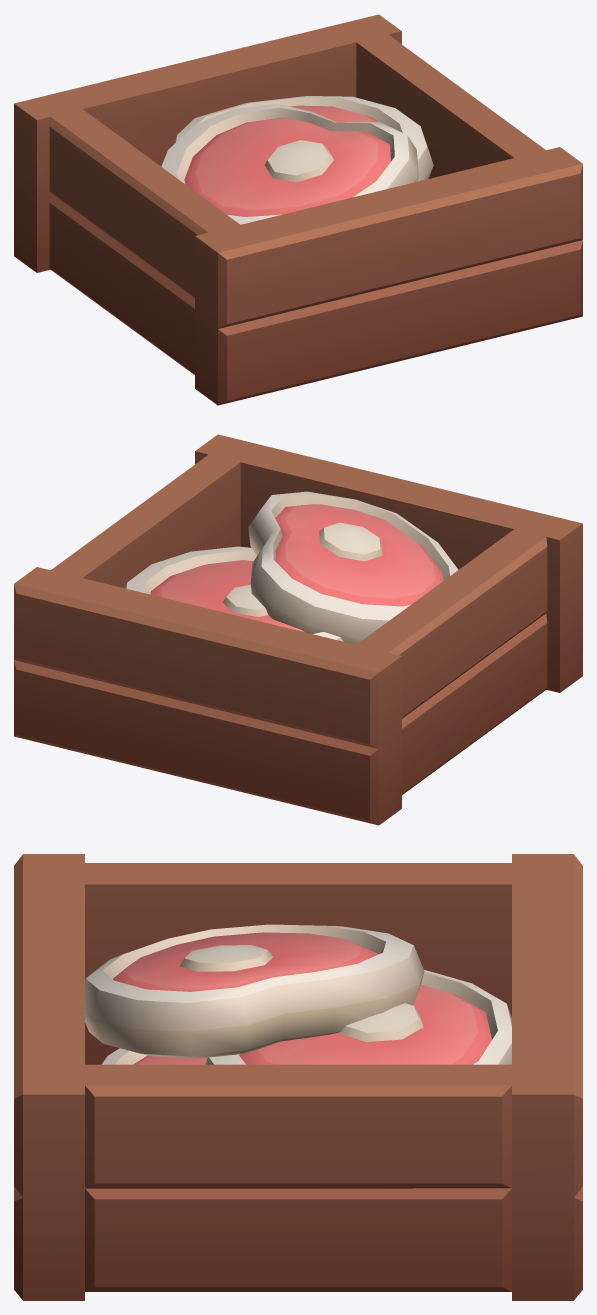
File: kaykit-restaurant-bits-crate-steak.glb
3 views of the same model, one above another, from view 1: azimuth 30°, elevation 25°; view 2: azimuth 150°, elevation 25°; view 3: azimuth 270°, elevation 25° (orthographic). The views are drawn at different scales.
Visible parts, largest first — view 1: crate_steak; view 2: crate_steak; view 3: crate_steak.
Part boxes in pixels (left/top/right/bottom): crate_steak: left=14, top=14, right=582, bottom=405; crate_steak: left=14, top=434, right=582, bottom=825; crate_steak: left=14, top=854, right=582, bottom=1300.
Bounding box in the file's own units: 2 × 0.8768 × 2.
Materials: 1 (1 with a texture image).
